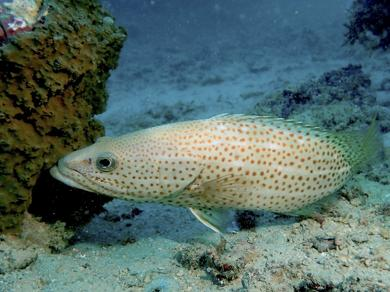Serranidae -Groupers-: (45, 109, 384, 240)
